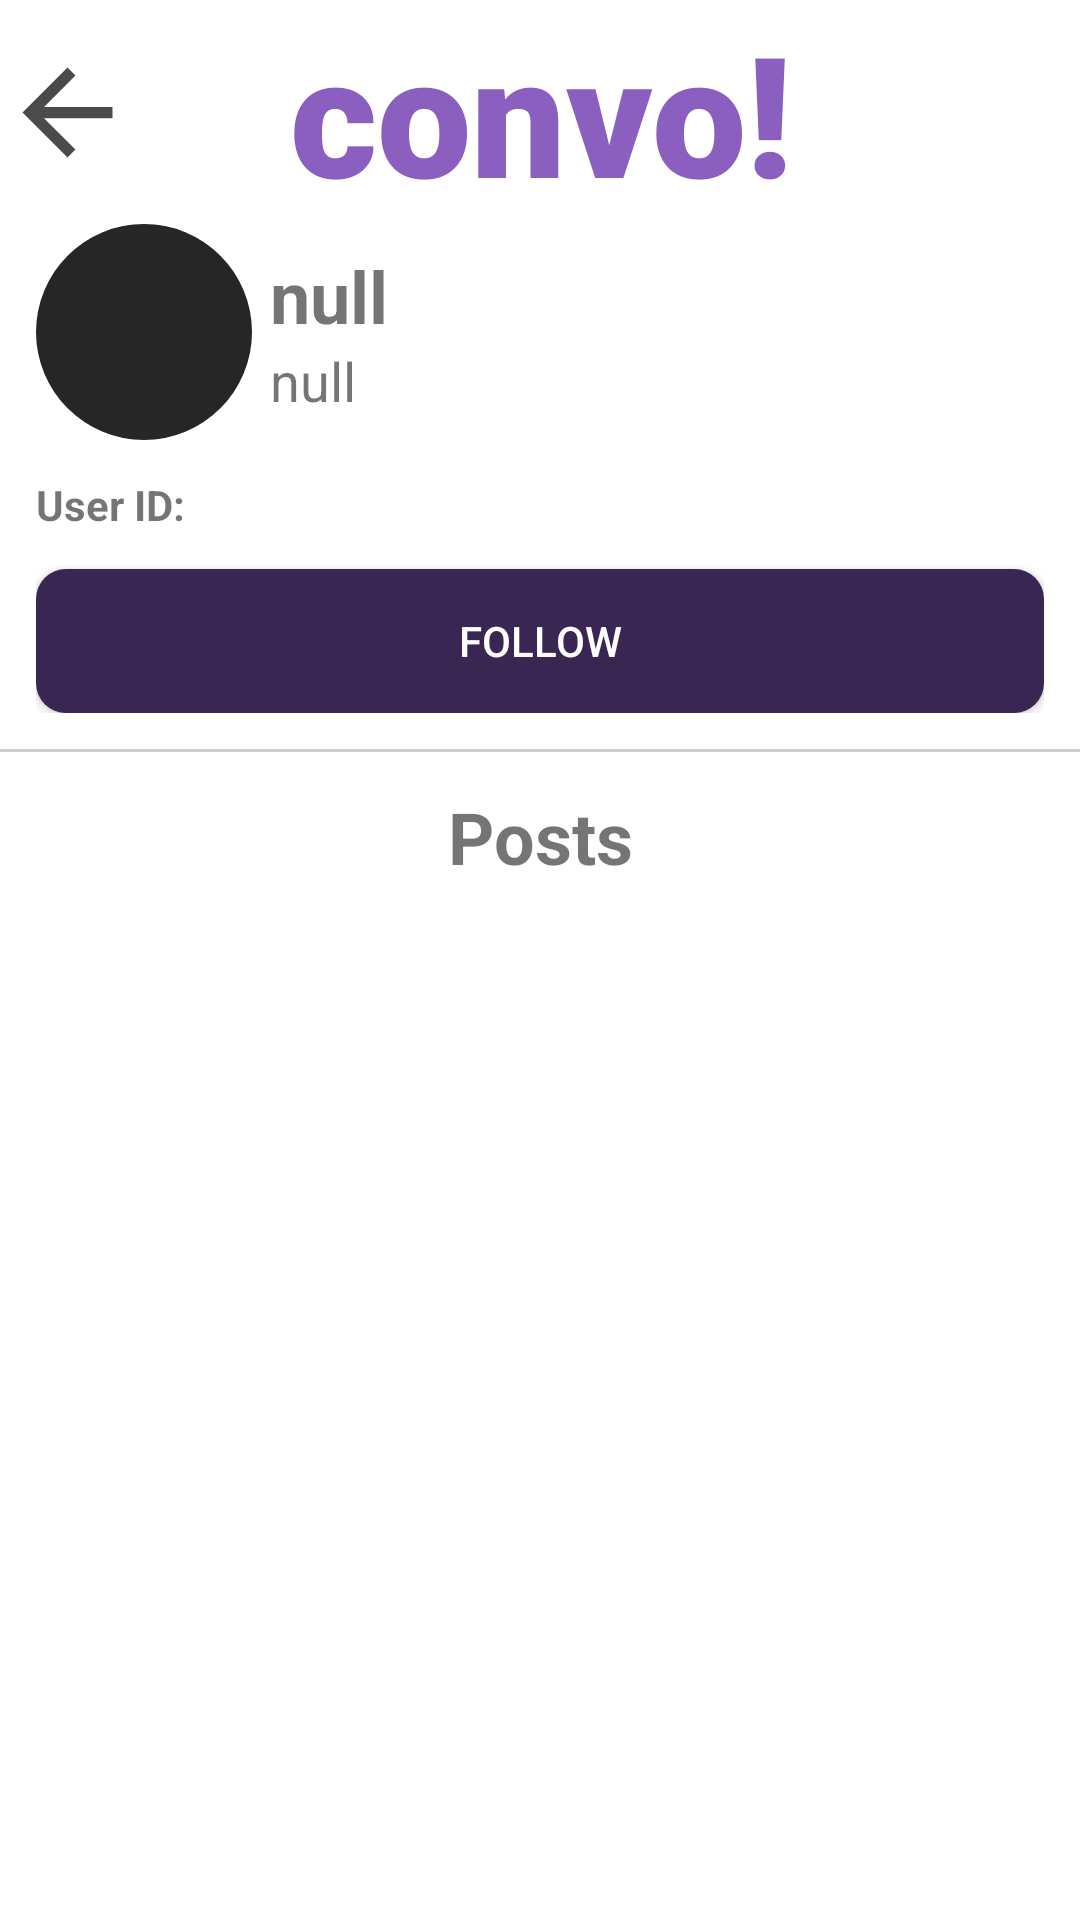

Point at icon controls on the screen. Image size 1080px x 1920px, points as (x=x, y=y).
arrow back: (x=67, y=112)
